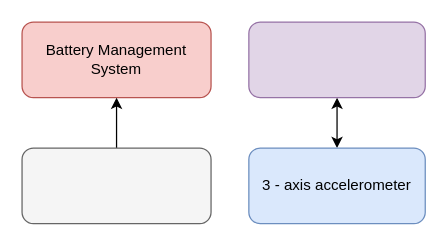
Some shapes in this 447 by 246 pixel diagram are drawn without their labels. Here are the shapes that lost their labels. From the top down, the centre of each, then its label:
the point at 336,59: Wi-Fi + Bluetooth LE MCU module
the point at 116,185: LiPo Battery
